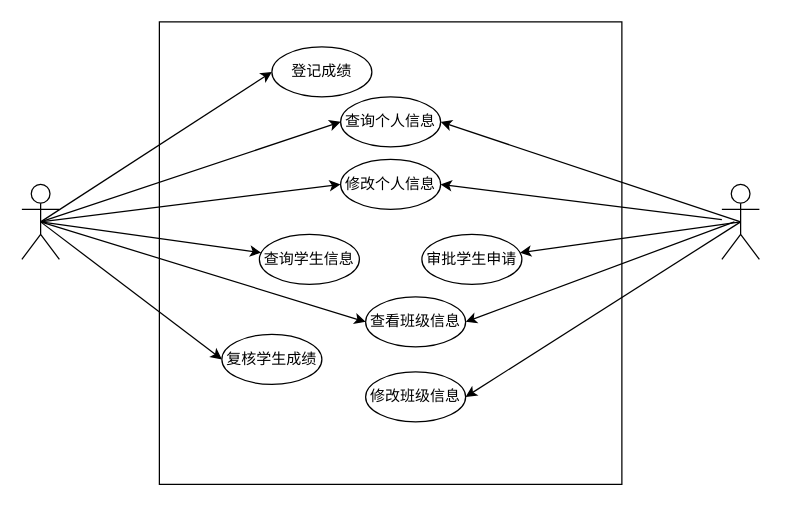
Some shapes in this 785 by 506 pixel diagram are drawn without their labels. Each missing label, with the centre of its shape:
教师: [40,221]
班主任: [740,221]
